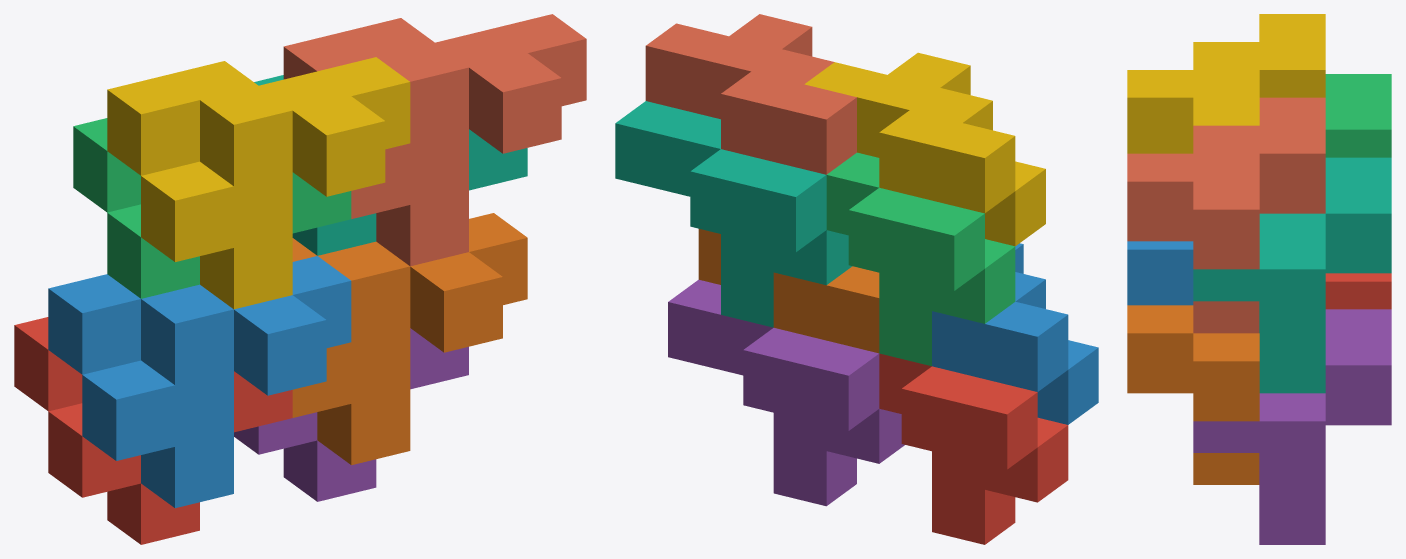
Rendered from tiling.obj.
3 views of the same model, side by side, from view 1: azimuth 30°, elevation 25°; view 2: azimuth 150°, elevation 25°; view 3: azimuth 270°, elevation 25° (orthographic). The views are drawn at different scales.
Parts seen in each view (by area): view 1: copy_1_domain_4, copy_1_domain_2, copy_1_domain_8, copy_1_domain_6, copy_1_domain_1, copy_1_domain_3, copy_1_domain_5, copy_1_domain_7; view 2: copy_1_domain_7, copy_1_domain_5, copy_1_domain_4, copy_1_domain_8, copy_1_domain_1, copy_1_domain_3, copy_1_domain_2, copy_1_domain_6; view 3: copy_1_domain_8, copy_1_domain_7, copy_1_domain_5, copy_1_domain_4, copy_1_domain_6, copy_1_domain_3, copy_1_domain_2, copy_1_domain_1.
Part boxes in pixels (x1=…): copy_1_domain_4: x1=107, y1=57, x2=410, y2=309; copy_1_domain_2: x1=48, y1=256, x2=351, y2=508; copy_1_domain_8: x1=283, y1=14, x2=586, y2=266; copy_1_domain_6: x1=292, y1=213, x2=527, y2=465; copy_1_domain_1: x1=14, y1=317, x2=292, y2=544; copy_1_domain_3: x1=73, y1=118, x2=351, y2=298; copy_1_domain_5: x1=234, y1=328, x2=468, y2=501; copy_1_domain_7: x1=254, y1=75, x2=527, y2=255; copy_1_domain_7: x1=615, y1=101, x2=852, y2=327; copy_1_domain_5: x1=668, y1=279, x2=904, y2=506; copy_1_domain_4: x1=804, y1=52, x2=1045, y2=246; copy_1_domain_8: x1=645, y1=14, x2=856, y2=174; copy_1_domain_1: x1=879, y1=353, x2=1068, y2=544; copy_1_domain_3: x1=826, y1=152, x2=1015, y2=366; copy_1_domain_2: x1=932, y1=243, x2=1098, y2=424; copy_1_domain_6: x1=698, y1=229, x2=879, y2=353; copy_1_domain_8: x1=1127, y1=97, x2=1325, y2=333; copy_1_domain_7: x1=1193, y1=157, x2=1391, y2=393; copy_1_domain_5: x1=1193, y1=309, x2=1391, y2=544; copy_1_domain_4: x1=1127, y1=14, x2=1325, y2=153; copy_1_domain_6: x1=1127, y1=305, x2=1259, y2=484; copy_1_domain_3: x1=1325, y1=74, x2=1391, y2=157; copy_1_domain_2: x1=1127, y1=241, x2=1193, y2=305; copy_1_domain_1: x1=1325, y1=273, x2=1391, y2=309.
Bounding box in the file's own units: 8 × 7 × 4.
